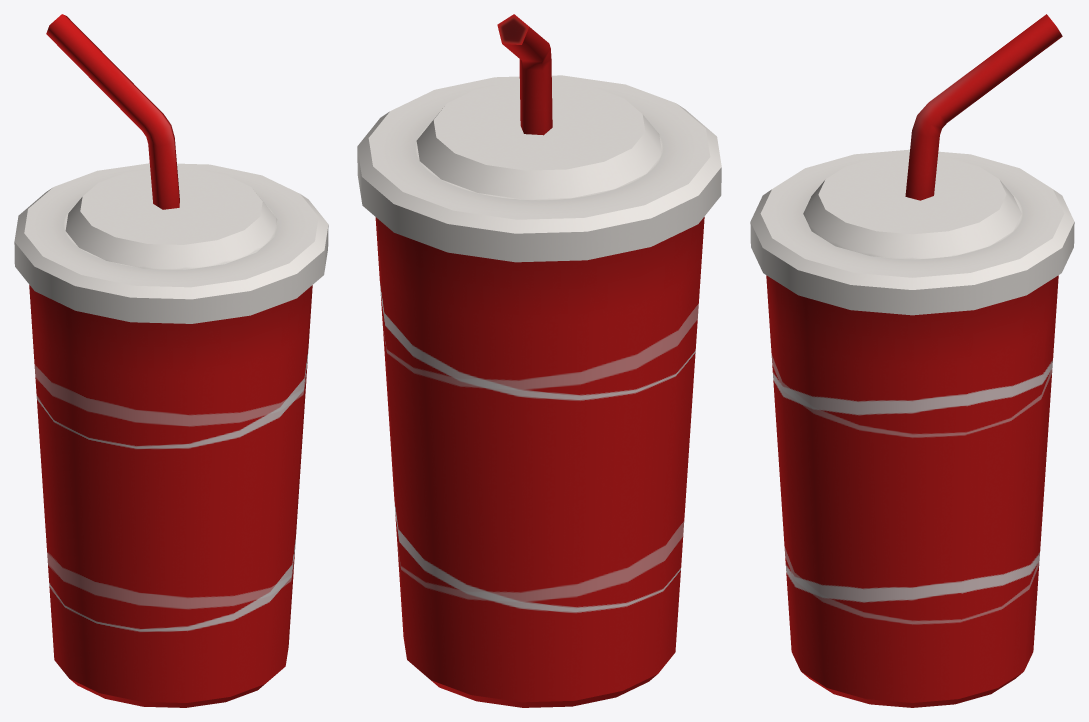
The model's file is CupWithLid.FBX.
3 renders of one model, left to right at view 1: azimuth 30°, elevation 25°; view 2: azimuth 150°, elevation 25°; view 3: azimuth 270°, elevation 25°, orthographic. The views are drawn at different scales.
Visible parts, largest first — view 1: CupWithLid; view 2: CupWithLid; view 3: CupWithLid.
Boxes of the visible parts, x1,y1,x2,y2 form: CupWithLid: (14,14,328,707); CupWithLid: (357,14,721,707); CupWithLid: (750,14,1074,707).
Size of the model in its own units: 10.8 by 22.99 by 10.8.
